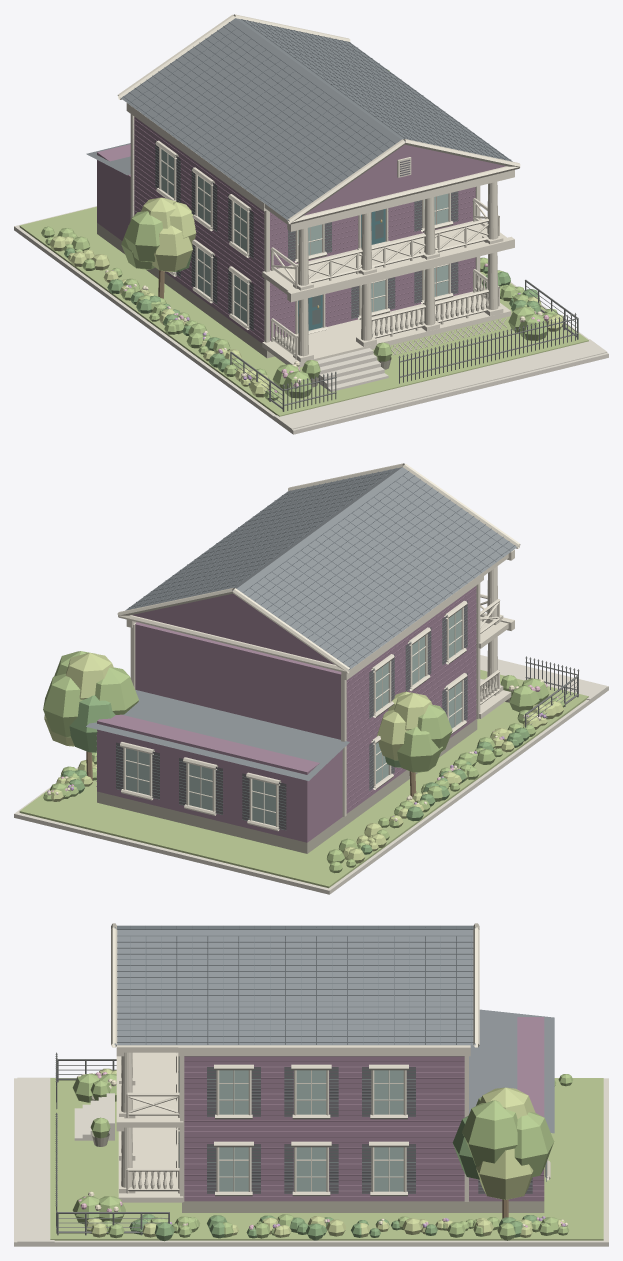
The model's file is greek-revival-house.glb.
The picture shows the model from 3 angles, top to bottom: view 1: azimuth 30°, elevation 25°; view 2: azimuth 150°, elevation 25°; view 3: azimuth 270°, elevation 25°; orthographic projection. The views are drawn at different scales.
Visible parts, largest first — view 1: roof, ivory, plum, grass, roofline, paving, leaf, leaflight, shutter, glass, metal, sidingline (+4 smaller); view 2: roof, plum, ivory, grass, roofline, leaf, leaflight, paving, glass, stone, shutter, leafdark (+3 smaller); view 3: roof, plum, ivory, grass, roofline, paving, leaf, glass, shutter, sidingline, leaflight, stone (+3 smaller).
Boxes of the visible parts, <box> form: roof: <box>86,18,512,220</box>; ivory: <box>117,14,520,367</box>; plum: <box>97,117,506,343</box>; grass: <box>19,206,588,416</box>; roofline: <box>121,19,511,221</box>; paving: <box>14,206,608,434</box>; leaf: <box>41,70,557,400</box>; leaflight: <box>49,197,562,397</box>; shutter: <box>155,140,458,330</box>; glass: <box>161,149,448,323</box>; metal: <box>230,279,578,411</box>; sidingline: <box>134,119,475,340</box>; roof: <box>86,466,517,780</box>; plum: <box>97,586,476,842</box>; ivory: <box>117,463,520,831</box>; grass: <box>19,670,588,888</box>; roofline: <box>126,468,515,668</box>; leaf: <box>43,651,564,873</box>; leaflight: <box>44,653,563,863</box>; paving: <box>14,655,608,894</box>; glass: <box>126,609,461,826</box>; stone: <box>97,698,509,853</box>; shutter: <box>116,600,467,829</box>; leafdark: <box>61,695,529,854</box>; roof: <box>115,930,554,1133</box>; plum: <box>184,1017,544,1201</box>; ivory: <box>111,923,550,1202</box>; grass: <box>50,1078,603,1240</box>; roofline: <box>114,925,475,1044</box>; paving: <box>14,1077,608,1246</box>; leaf: <box>72,1073,573,1240</box>; glass: <box>219,1070,403,1191</box>; shutter: <box>207,1067,532,1192</box>; sidingline: <box>184,1056,544,1196</box>; leaflight: <box>84,1068,565,1237</box>; stone: <box>91,1095,544,1212</box>.
Size of the model in its own units: 15.82 by 10.15 by 23.
